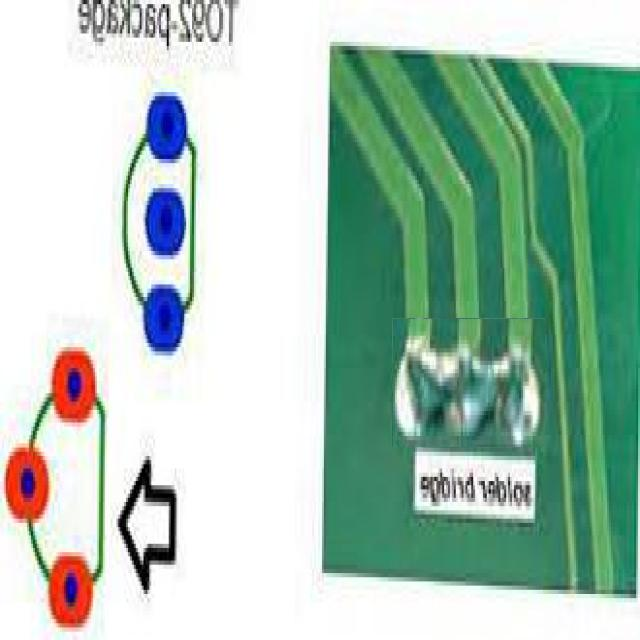Short_circuit: (392, 318, 545, 447)
